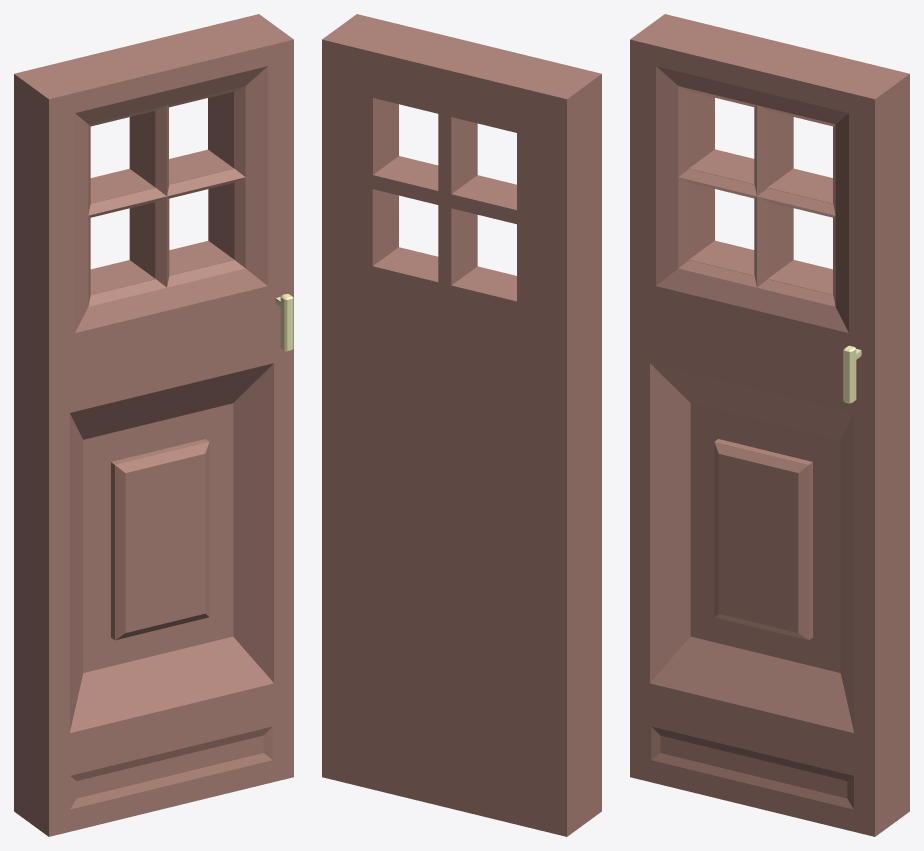
Rendered from Door.fbx.
3 views of the same model, side by side, from view 1: azimuth 30°, elevation 25°; view 2: azimuth 150°, elevation 25°; view 3: azimuth 330°, elevation 25° (orthographic).
Parts seen in each view (by area): view 1: Cube, Cube.001; view 2: Cube; view 3: Cube, Cube.001.
Boxes of the visible parts, x1,y1,x2,y2 form: Cube: (14, 14, 293, 836); Cube.001: (275, 293, 293, 351); Cube: (322, 14, 601, 836); Cube: (630, 14, 909, 836); Cube.001: (843, 345, 861, 403).
Bounding box in the file's own units: 316 × 909 × 105.
